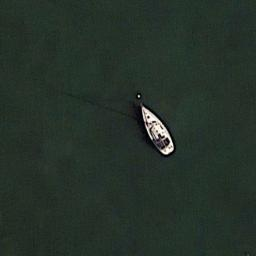boat: (136, 94, 175, 156)
